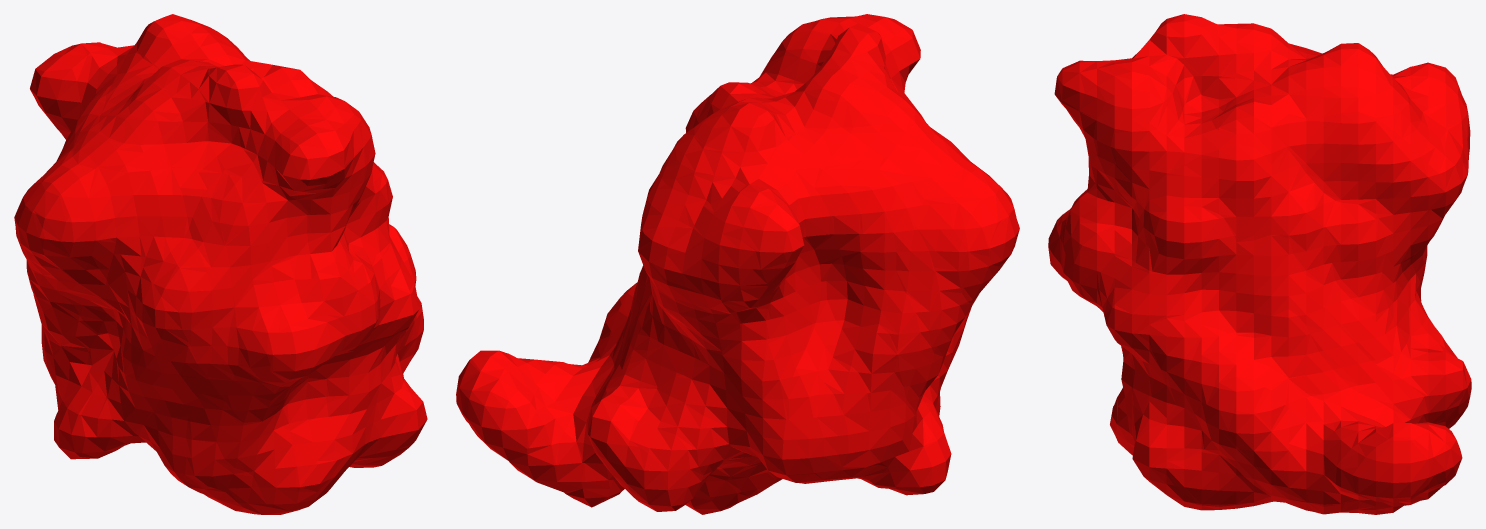
Rendered from mmuP_coarse.dae.
3 renders of one model, left to right at view 1: azimuth 30°, elevation 25°; view 2: azimuth 150°, elevation 25°; view 3: azimuth 270°, elevation 25°, orthographic. The views are drawn at different scales.
Parts seen in each view (by area): view 1: mmuP; view 2: mmuP; view 3: mmuP.
Boxes of the visible parts, left/top/right/bottom form: mmuP: left=14, top=14, right=427, bottom=514; mmuP: left=456, top=14, right=1019, bottom=514; mmuP: left=1048, top=14, right=1471, bottom=514.
Size of the model in its own units: 70.66 by 65.28 by 57.64.
